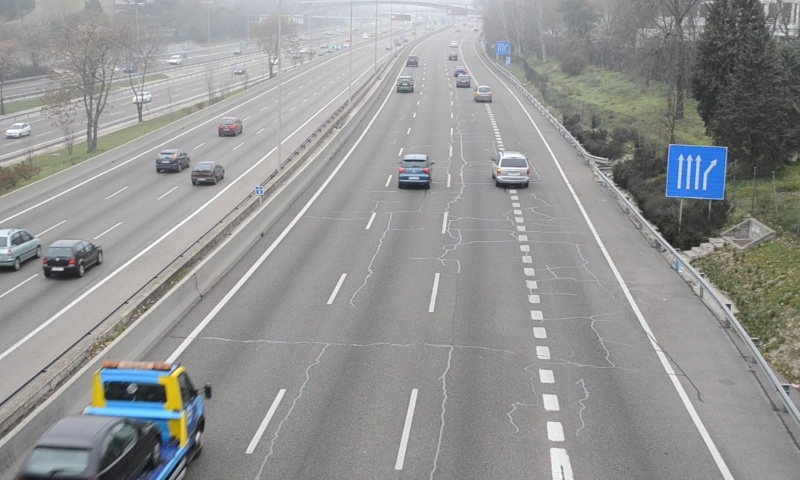car: (493, 150, 528, 186), (397, 154, 431, 187), (474, 84, 492, 103), (396, 75, 414, 94)
small-truck: (12, 360, 204, 480)
